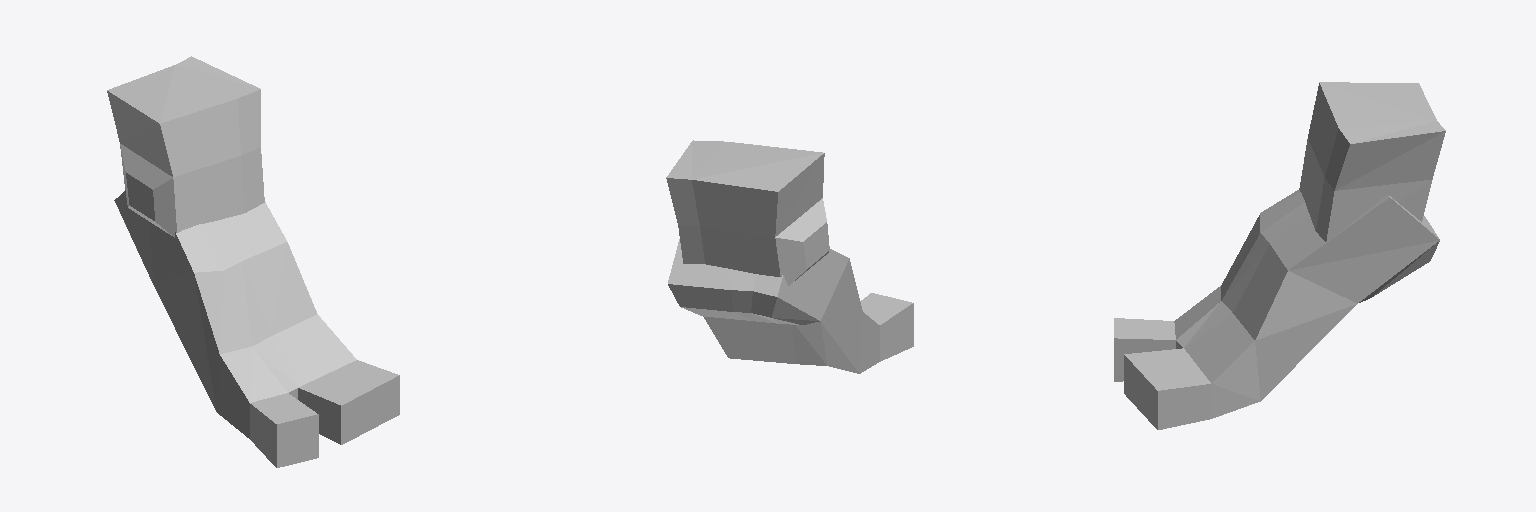
File: Foot.obj
3 renders of one model, left to right at view 1: azimuth 30°, elevation 25°; view 2: azimuth 150°, elevation 25°; view 3: azimuth 270°, elevation 25°, orthographic.
Visible parts, largest first — view 1: pCube1, pCube2; view 2: pCube1, pCube2; view 3: pCube1, pCube2.
Part boxes in pixels (bbox=[...]): pCube1: bbox=[114, 190, 399, 467]; pCube2: bbox=[107, 56, 264, 237]; pCube1: bbox=[668, 239, 913, 373]; pCube2: bbox=[666, 140, 829, 285]; pCube1: bbox=[1114, 190, 1439, 429]; pCube2: bbox=[1299, 82, 1445, 241].
Bounding box in the file's own units: 5.09 × 8.03 × 8.87.